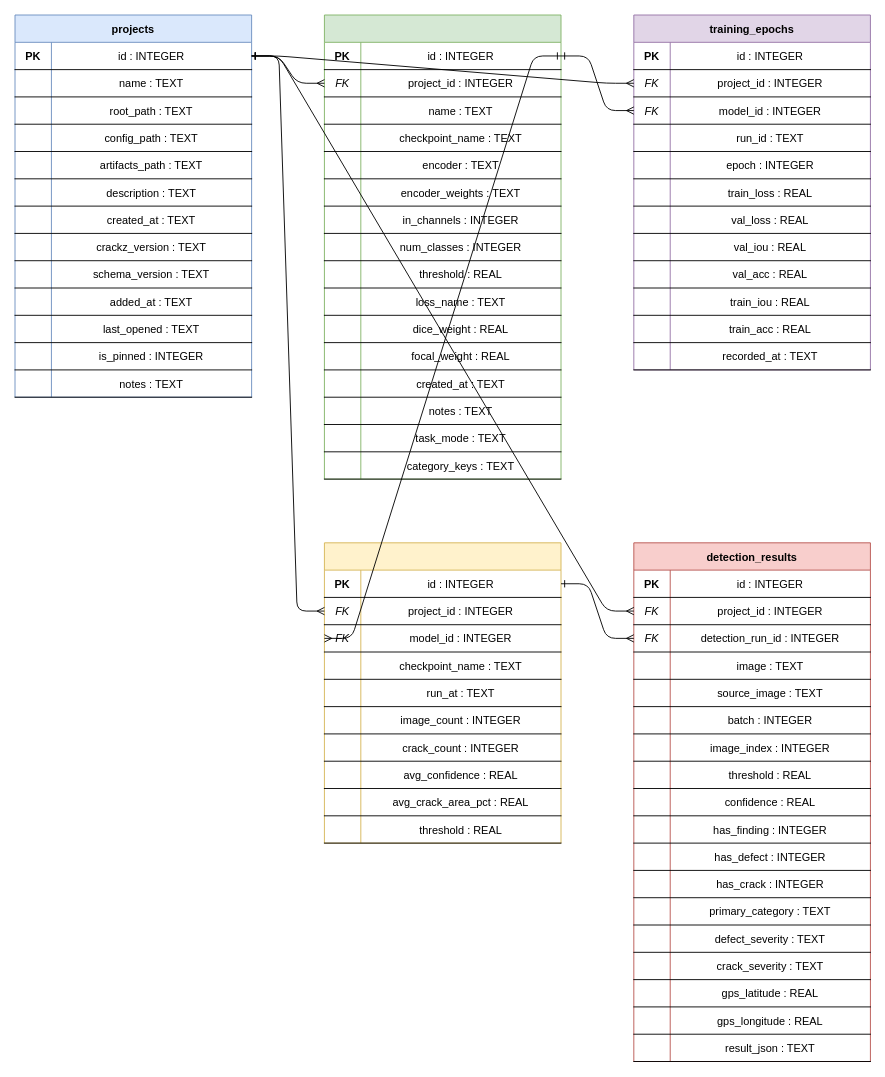
Some shapes in this 885 by 1077 pixel diagram are drawn without their labels. The shapes that lost their labels are listed below. From the top down, each one's box as (x1, y1, x2, y2) in pixels, then its label:
(324, 14, 561, 479): models
(324, 542, 561, 843): detection_runs
